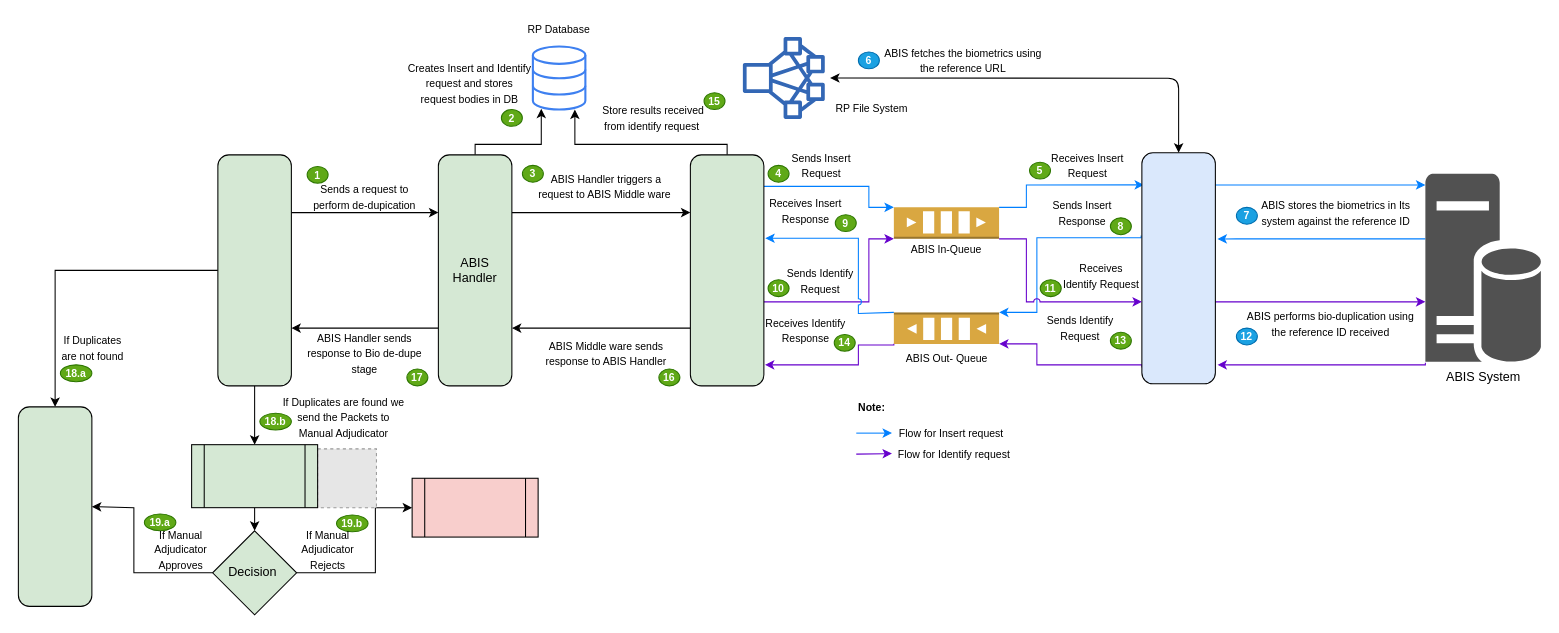
Image size: 1559x633. Some labels were removed from this diagram. Grey dashed boxes stand in for pictures. Here are the shapes that lost their labels. From the top down, the centre of each, then its label:
(x=254, y=270): Bio De-Dupe Stage
(x=726, y=270): ABIS Middle Ware
(x=1178, y=268): ABIS Solution
(x=254, y=476): Manual Adjudication
(x=54, y=506): UIN Generator
(x=474, y=507): Reject and Notify Resident
